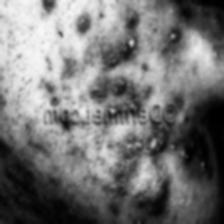Non-Cancerous Skin Condition: (0, 131, 219, 222), (16, 4, 182, 102)
